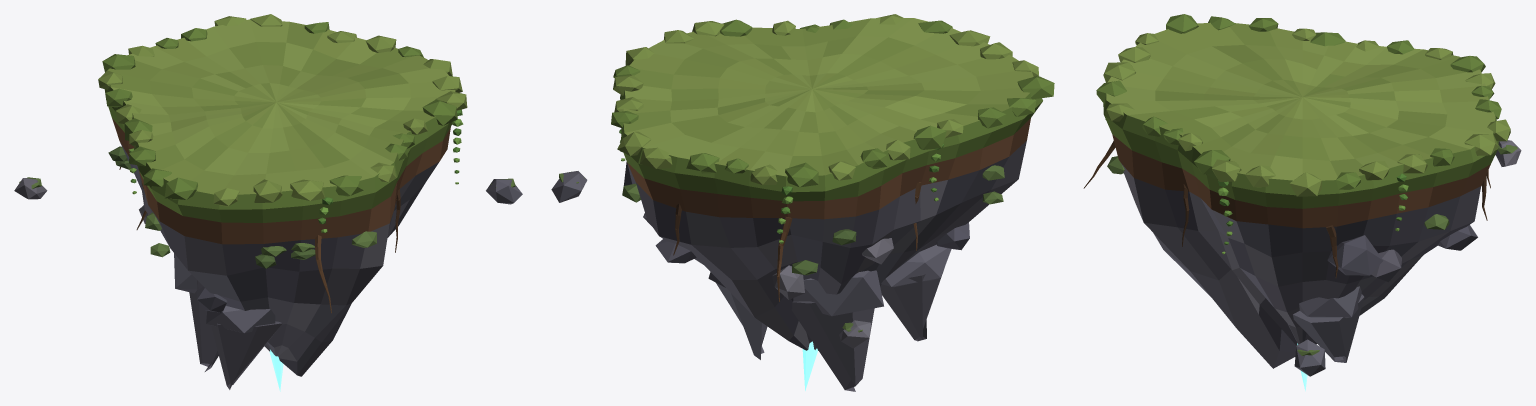
File: islet_0.glb
3 renders of one model, left to right at view 1: azimuth 30°, elevation 25°; view 2: azimuth 150°, elevation 25°; view 3: azimuth 270°, elevation 25°, orthographic. The views are drawn at different scales.
Visible parts, largest first — view 1: islet_0; view 2: islet_0; view 3: islet_0.
Part boxes in pixels (<box>): islet_0: <box>14,14,522,391</box>; islet_0: <box>551,14,1054,391</box>; islet_0: <box>1083,14,1521,391</box>.
Bounding box in the file's own units: 4.75 × 3.24 × 4.3.
